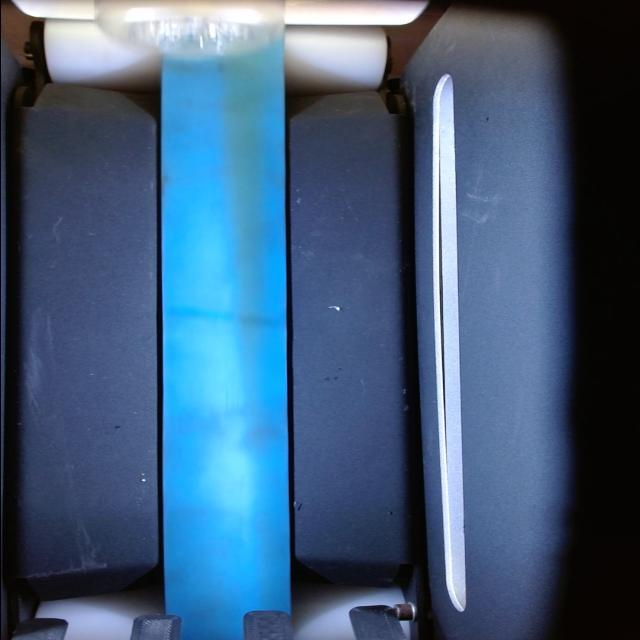bottom: (95, 0, 283, 56)
